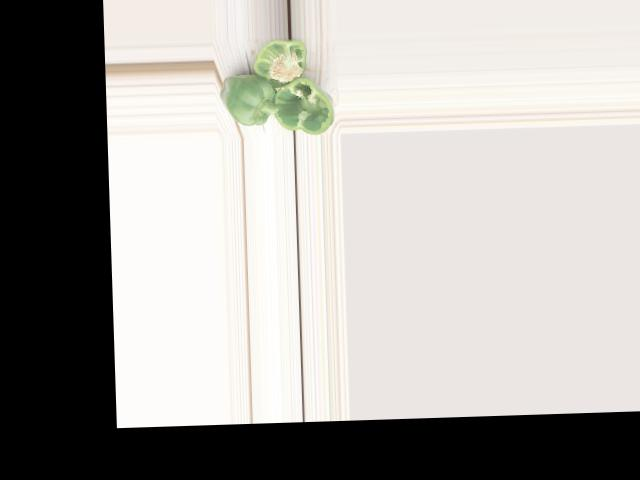bell_pepper: (248, 38, 318, 87)
